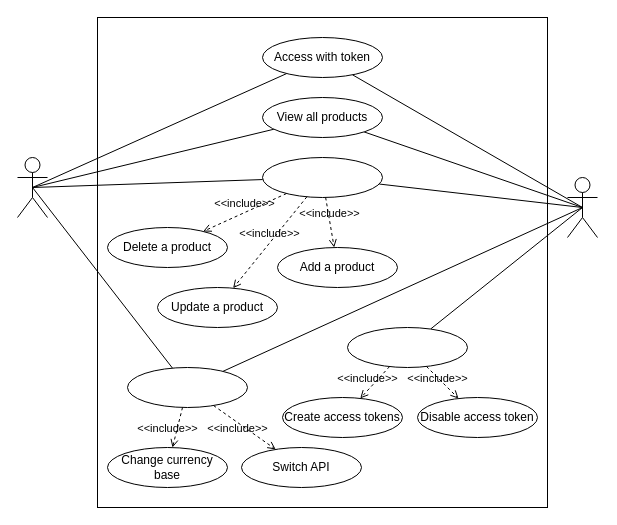
Image size: 617x525. Some labels were removed from this diagram. The centre of each missing label's shape, as x and y in pixels:
Admin: point (582, 207)
Configure helper: point (187, 387)
Manage access tokens: point (407, 347)
Manipulate products: point (322, 177)
User: point (32, 187)
